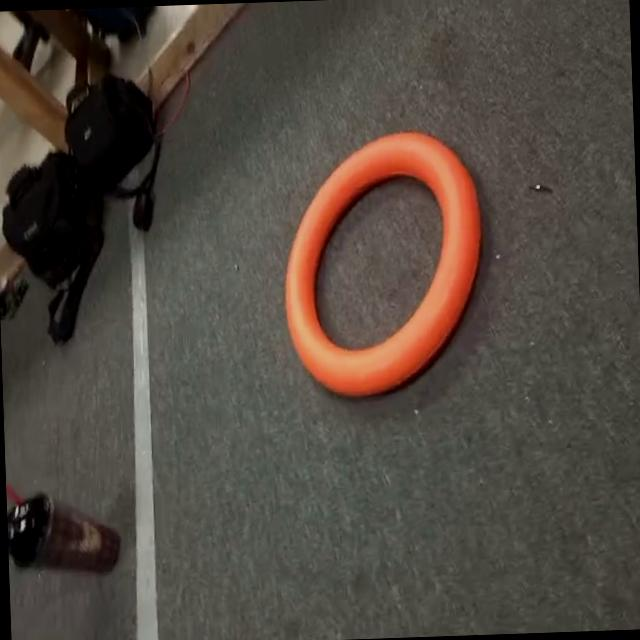note: (269, 124, 502, 423)
